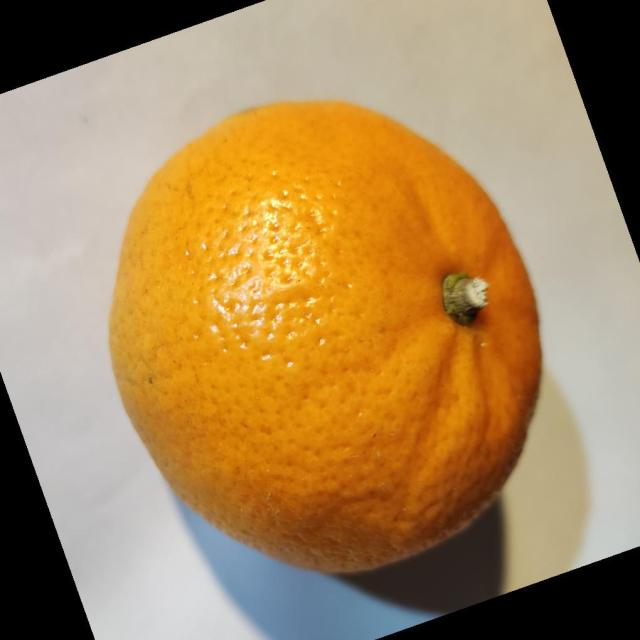fresh orange: (107, 97, 543, 575)
